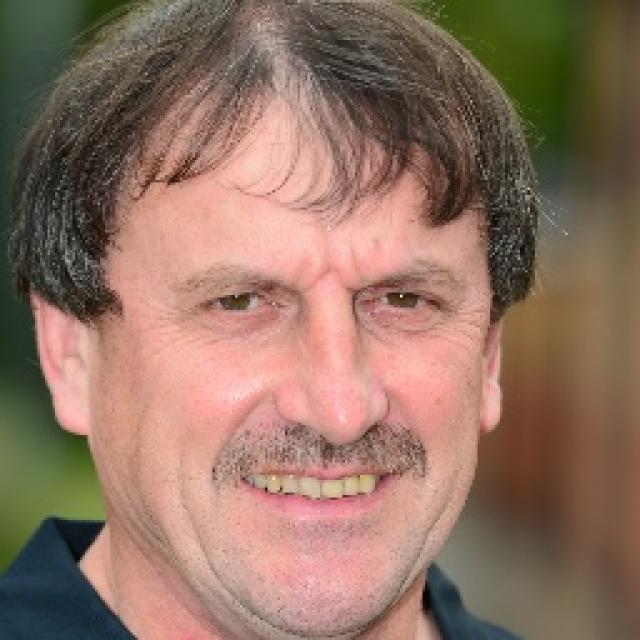earlobe: (56, 383, 94, 437), (479, 384, 504, 438)
eye: (187, 283, 280, 317), (368, 286, 442, 312)
nose: (281, 408, 384, 461)
wholeear: (27, 263, 94, 436), (480, 284, 504, 438)
